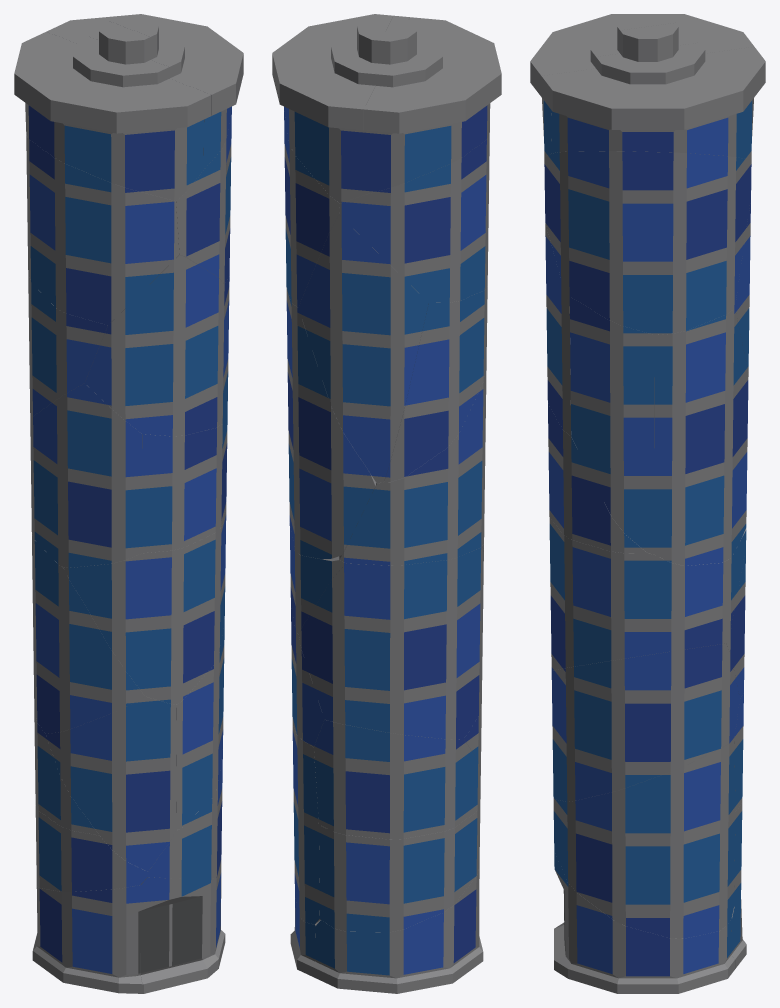
Rendered from HighHouse 2.3 Fractured.fbx.
3 renders of one model, left to right at view 1: azimuth 30°, elevation 25°; view 2: azimuth 150°, elevation 25°; view 3: azimuth 270°, elevation 25°, orthographic.
Parts seen in each view (by area): view 1: HighHouse_2_03_Breaking_cell.007, HighHouse_2_03_Breaking_cell.008, HighHouse_2_03_Breaking_cell.013, HighHouse_2_03_Breaking_cell.005, HighHouse_2_03_Breaking_cell.017, HighHouse_2_03_Breaking_cell.014, HighHouse_2_03_Breaking_cell.010, HighHouse_2_03_Breaking_cell.002, HighHouse_2_03_Breaking_cell.004, HighHouse_2_03_Breaking_cell.018, HighHouse_2_03_Breaking_cell.001, HighHouse_2_03_Breaking_cell.019 (+6 smaller); view 2: HighHouse_2_03_Breaking_cell.010, HighHouse_2_03_Breaking_cell, HighHouse_2_03_Breaking_cell.007, HighHouse_2_03_Breaking_cell.009, HighHouse_2_03_Breaking_cell.008, HighHouse_2_03_Breaking_cell.001, HighHouse_2_03_Breaking_cell.016, HighHouse_2_03_Breaking_cell.017, HighHouse_2_03_Breaking_cell.006, HighHouse_2_03_Breaking_cell.002, HighHouse_2_03_Breaking_cell.015, HighHouse_2_03_Breaking_cell.011 (+5 smaller); view 3: HighHouse_2_03_Breaking_cell.011, HighHouse_2_03_Breaking_cell.003, HighHouse_2_03_Breaking_cell.019, HighHouse_2_03_Breaking_cell.001, HighHouse_2_03_Breaking_cell.006, HighHouse_2_03_Breaking_cell.005, HighHouse_2_03_Breaking_cell.012, HighHouse_2_03_Breaking_cell.018, HighHouse_2_03_Breaking_cell.007, HighHouse_2_03_Breaking_cell.004, HighHouse_2_03_Breaking_cell.013, HighHouse_2_03_Breaking_cell.010 (+4 smaller).
Part boxes in pixels (<box>): HighHouse_2_03_Breaking_cell.007: <box>14,20,211,200</box>; HighHouse_2_03_Breaking_cell.008: <box>26,135,179,325</box>; HighHouse_2_03_Breaking_cell.013: <box>85,255,224,436</box>; HighHouse_2_03_Breaking_cell.005: <box>63,508,226,704</box>; HighHouse_2_03_Breaking_cell.017: <box>30,383,142,567</box>; HighHouse_2_03_Breaking_cell.014: <box>45,696,176,871</box>; HighHouse_2_03_Breaking_cell.010: <box>32,533,144,733</box>; HighHouse_2_03_Breaking_cell.002: <box>32,885,142,993</box>; HighHouse_2_03_Breaking_cell.004: <box>142,424,226,553</box>; HighHouse_2_03_Breaking_cell.018: <box>140,876,225,993</box>; HighHouse_2_03_Breaking_cell.001: <box>46,14,243,169</box>; HighHouse_2_03_Breaking_cell.019: <box>176,619,224,830</box>; HighHouse_2_03_Breaking_cell.010: <box>299,546,483,739</box>; HighHouse_2_03_Breaking_cell: <box>298,215,428,483</box>; HighHouse_2_03_Breaking_cell.007: <box>364,16,501,194</box>; HighHouse_2_03_Breaking_cell.009: <box>314,719,480,839</box>; HighHouse_2_03_Breaking_cell.008: <box>339,136,489,302</box>; HighHouse_2_03_Breaking_cell.001: <box>272,14,409,203</box>; HighHouse_2_03_Breaking_cell.016: <box>319,806,480,932</box>; HighHouse_2_03_Breaking_cell.017: <box>339,366,486,565</box>; HighHouse_2_03_Breaking_cell.006: <box>286,286,376,559</box>; HighHouse_2_03_Breaking_cell.002: <box>312,867,483,993</box>; HighHouse_2_03_Breaking_cell.015: <box>384,286,487,481</box>; HighHouse_2_03_Breaking_cell.011: <box>284,109,339,307</box>; HighHouse_2_03_Breaking_cell.011: <box>544,151,751,334</box>; HighHouse_2_03_Breaking_cell.003: <box>553,739,735,938</box>; HighHouse_2_03_Breaking_cell.019: <box>551,643,739,801</box>; HighHouse_2_03_Breaking_cell.001: <box>541,23,765,160</box>; HighHouse_2_03_Breaking_cell.006: <box>654,308,748,565</box>; HighHouse_2_03_Breaking_cell.005: <box>549,517,746,670</box>; HighHouse_2_03_Breaking_cell.012: <box>569,297,654,554</box>; HighHouse_2_03_Breaking_cell.018: <box>554,852,734,993</box>; HighHouse_2_03_Breaking_cell.007: <box>530,14,753,156</box>; HighHouse_2_03_Breaking_cell.004: <box>548,404,646,553</box>; HighHouse_2_03_Breaking_cell.013: <box>545,224,571,435</box>; HighHouse_2_03_Breaking_cell.010: <box>726,549,745,697</box>.
Size of the model in its own units: 474 by 2163 by 498.
